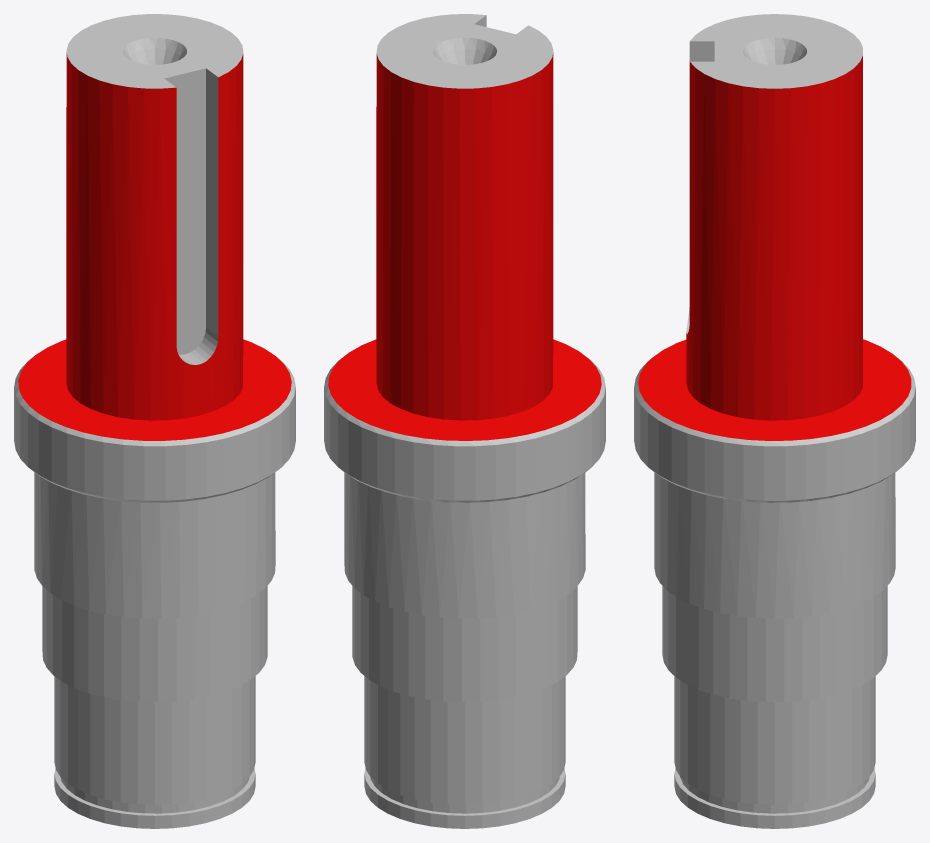
Rendered from 13_stp_3_11.obj.
3 views of the same model, side by side, from view 1: azimuth 30°, elevation 25°; view 2: azimuth 150°, elevation 25°; view 3: azimuth 270°, elevation 25° (orthographic).
Visible parts, largest first — view 1: Object1; view 2: Object1; view 3: Object1.
Part boxes in pixels (x1,y1,x2,y2): Object1: (14, 14, 295, 828); Object1: (324, 14, 605, 828); Object1: (634, 14, 915, 828).
Size of the model in its own units: 34.9 by 101 by 35.
